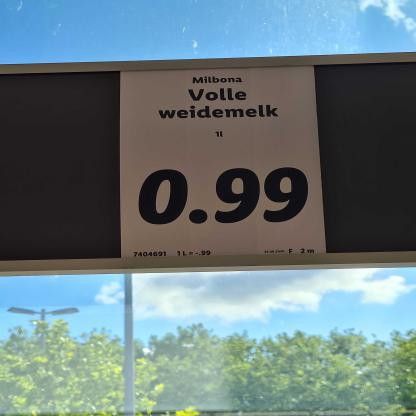prtg: (121, 66, 328, 259)
